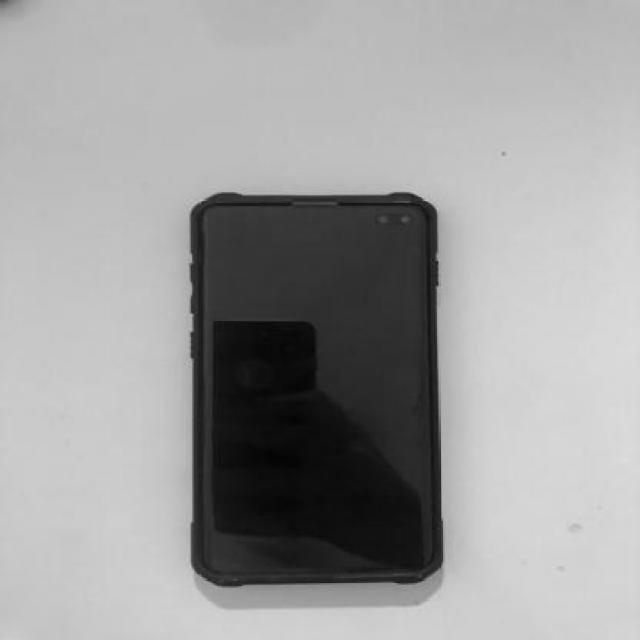fake: (184, 188, 450, 590)
